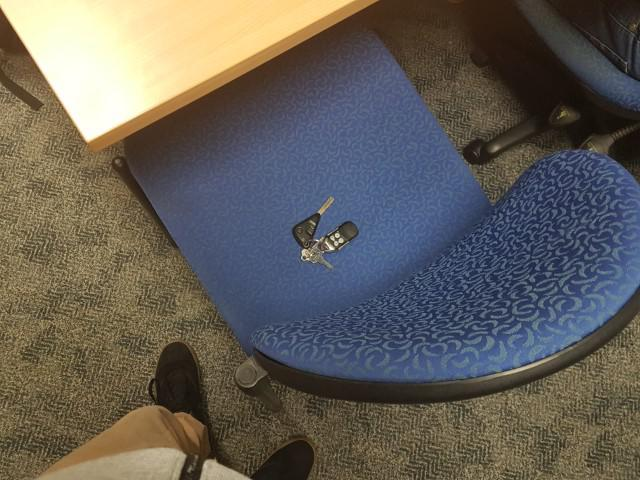key: (294, 196, 336, 248)
